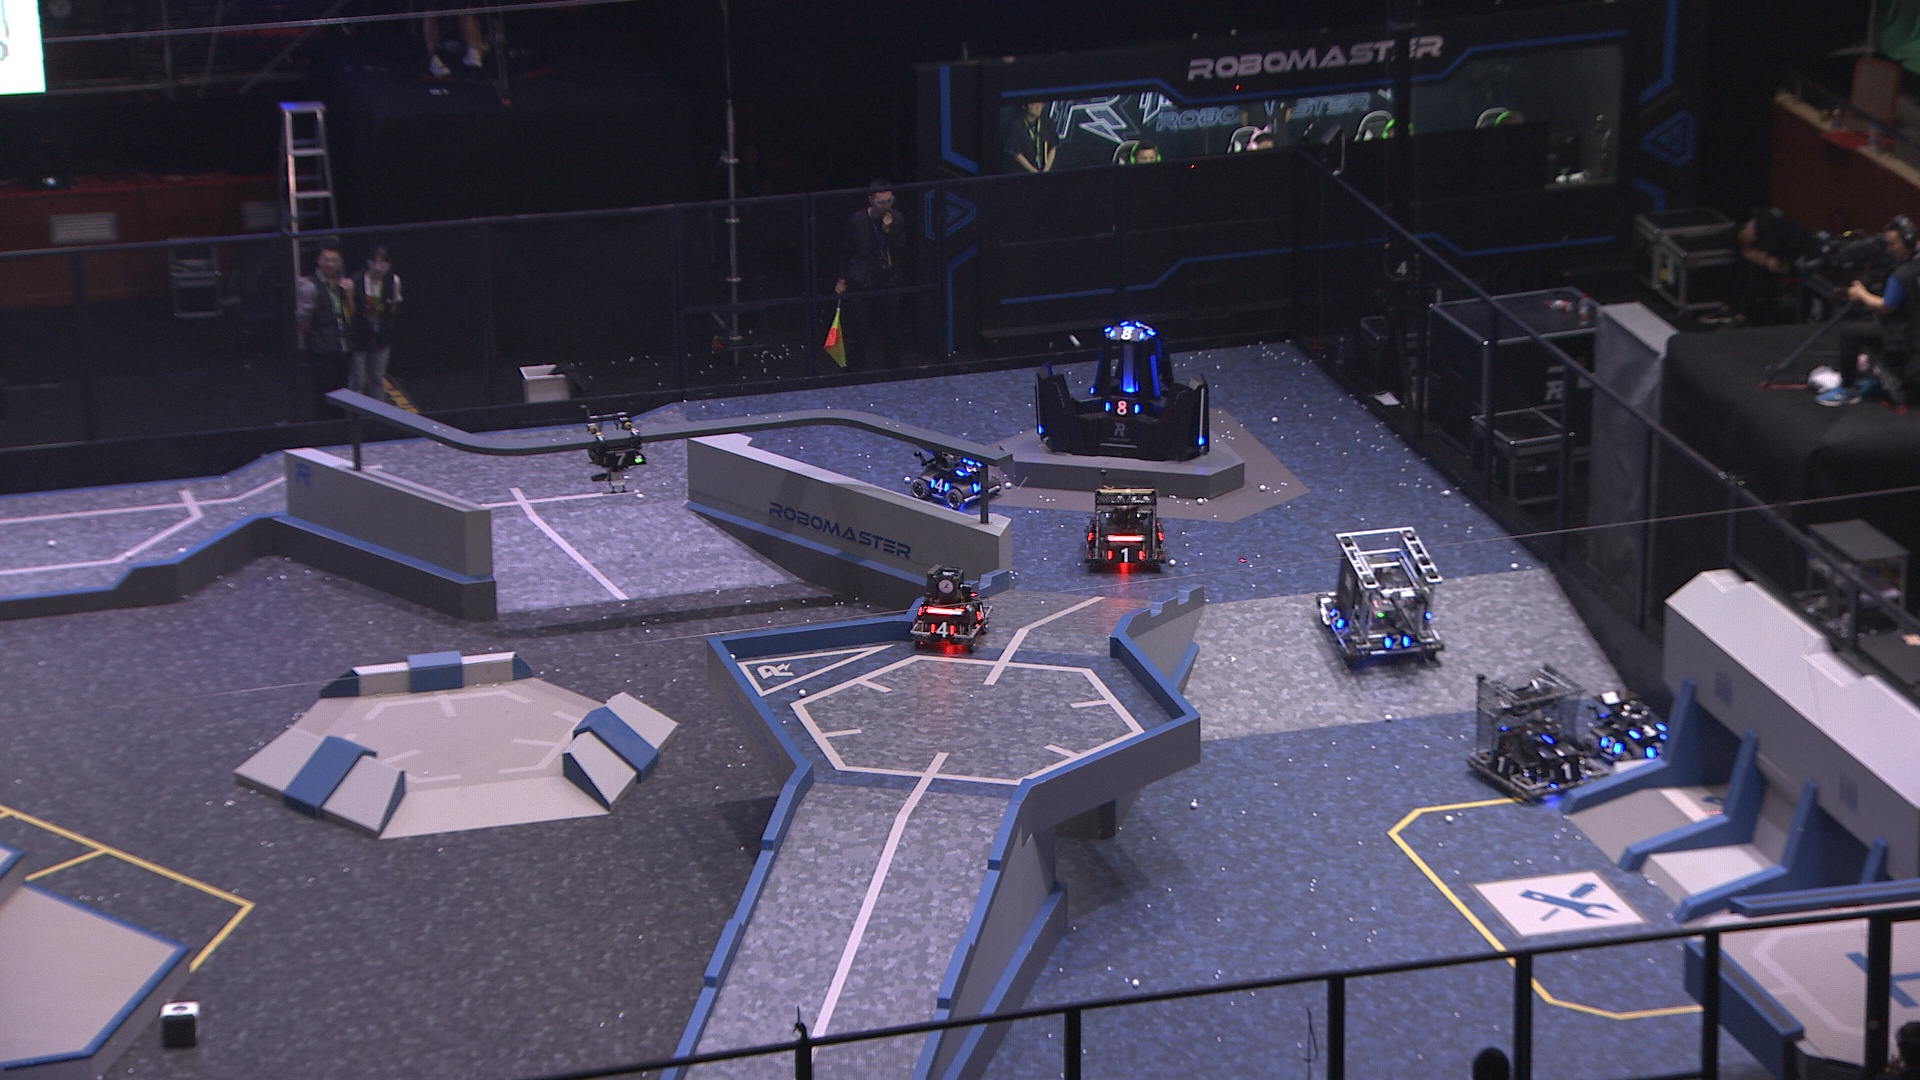armor: (1536, 738, 1577, 764), (599, 447, 647, 467), (1642, 737, 1677, 764), (1102, 545, 1147, 564), (1548, 764, 1586, 785), (926, 617, 960, 640), (1102, 400, 1143, 418), (1490, 752, 1516, 779), (1596, 735, 1625, 760), (953, 455, 982, 479), (1149, 356, 1164, 398), (1109, 323, 1145, 342), (1627, 723, 1664, 740), (1327, 604, 1349, 632), (1381, 632, 1411, 651), (971, 600, 992, 624), (930, 476, 953, 495), (1083, 520, 1098, 541), (1121, 382, 1135, 396)
base: (1030, 315, 1215, 463)
car: (1468, 661, 1611, 802), (1316, 522, 1452, 670), (1580, 688, 1692, 778), (1079, 483, 1168, 575), (910, 560, 994, 655), (911, 429, 1007, 512)
watcher: (578, 409, 650, 495)
